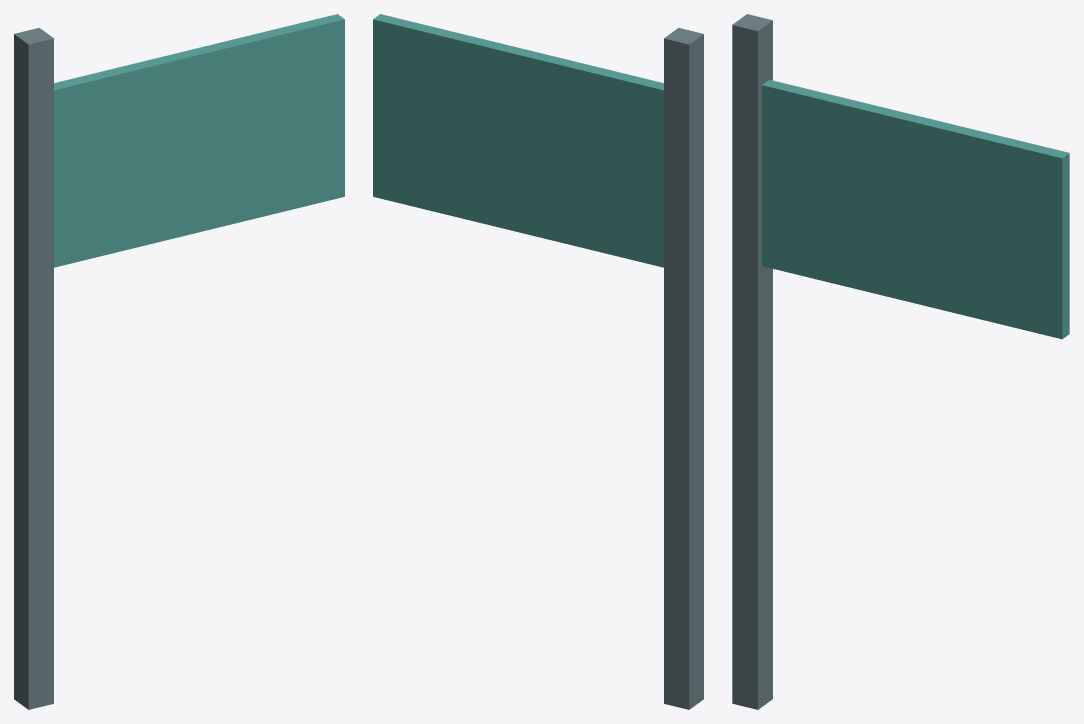
The model's file is flags.source.glb.
3 renders of one model, left to right at view 1: azimuth 30°, elevation 25°; view 2: azimuth 150°, elevation 25°; view 3: azimuth 330°, elevation 25°, orthographic. The views are drawn at different scales.
Parts seen in each view (by area): view 1: flags-flag-mesh, flags-pole-mesh; view 2: flags-flag-mesh, flags-pole-mesh; view 3: flags-flag-mesh, flags-pole-mesh.
Part boxes in pixels (x1,y1,x2,y2): flags-flag-mesh: (54,14,344,267); flags-pole-mesh: (14,27,53,709); flags-flag-mesh: (373,14,663,267); flags-pole-mesh: (664,27,703,709); flags-flag-mesh: (762,79,1069,339); flags-pole-mesh: (732,14,772,709).
Size of the model in its own units: 1.51 by 3 by 0.12.
